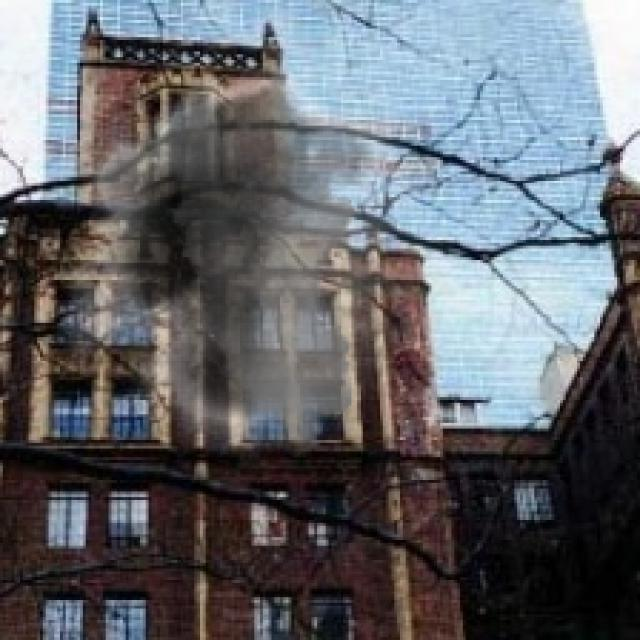smoke: (46, 43, 466, 457)
